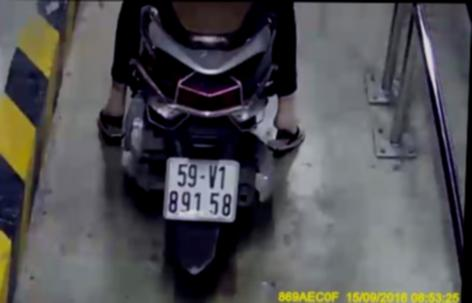License_Plate: (159, 150, 248, 228)
